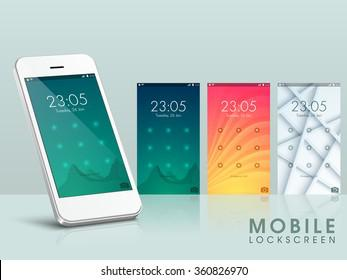mobile: (14, 55, 142, 226)
